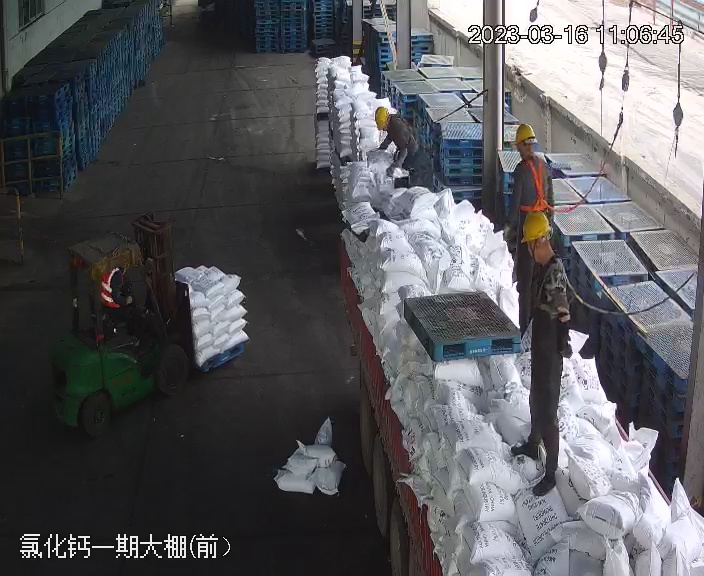belt: (537, 257, 579, 314), (516, 156, 557, 214), (386, 112, 411, 141)
head: (517, 211, 571, 286), (507, 121, 554, 181), (373, 106, 409, 140)
helmet: (521, 211, 551, 242), (512, 121, 537, 144), (374, 106, 389, 130)
people: (510, 215, 576, 496), (498, 123, 556, 294), (374, 105, 421, 188)
truck: (326, 180, 702, 576)
